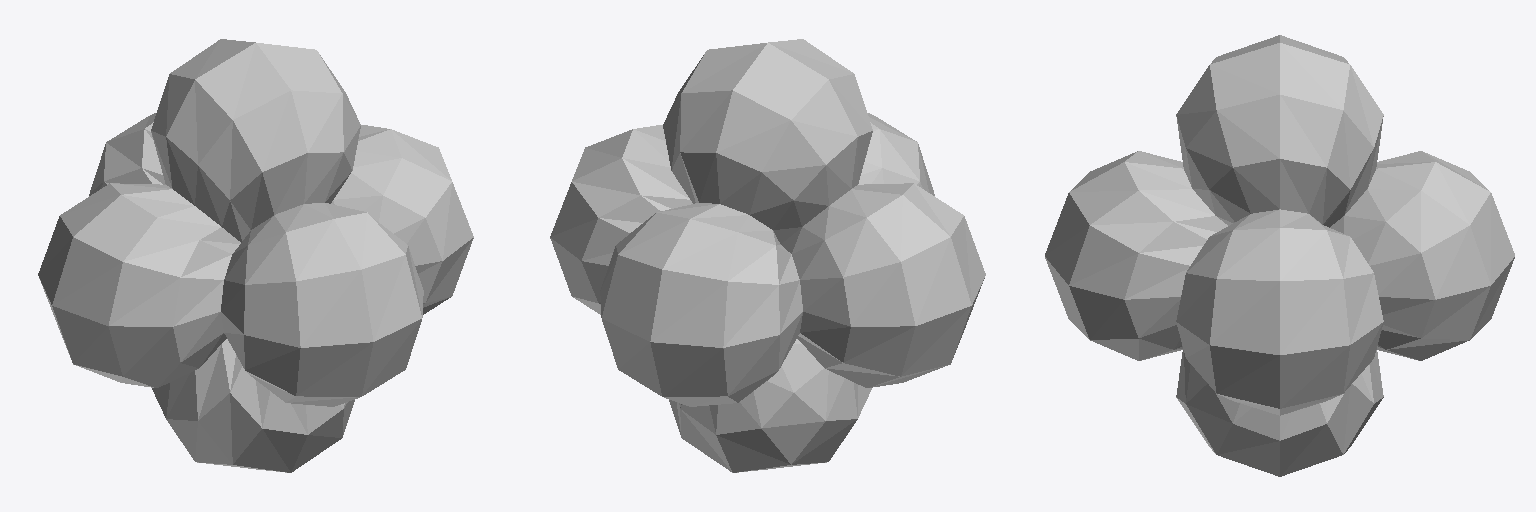
The model's file is blob.obj.
3 views of the same model, side by side, from view 1: azimuth 30°, elevation 25°; view 2: azimuth 150°, elevation 25°; view 3: azimuth 270°, elevation 25° (orthographic).
Visible parts, largest first — view 1: Cube; view 2: Cube; view 3: Cube.
Part boxes in pixels (bbox=[...]): Cube: bbox=[38, 39, 473, 472]; Cube: bbox=[550, 39, 985, 472]; Cube: bbox=[1045, 35, 1514, 476].
Size of the model in its own units: 1.96 by 1.96 by 1.96.